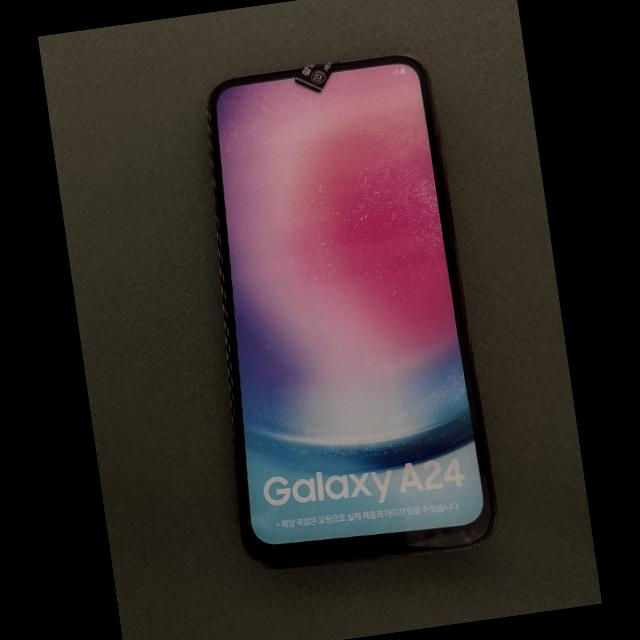phone: (209, 56, 494, 566)
sticker: (295, 62, 338, 94)
